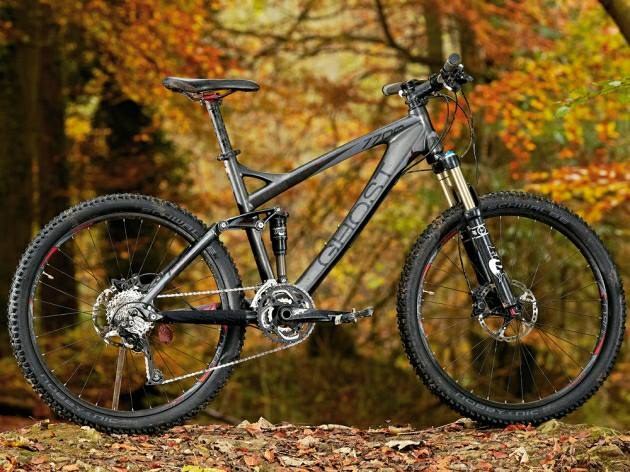bicycle: (5, 59, 629, 436)
